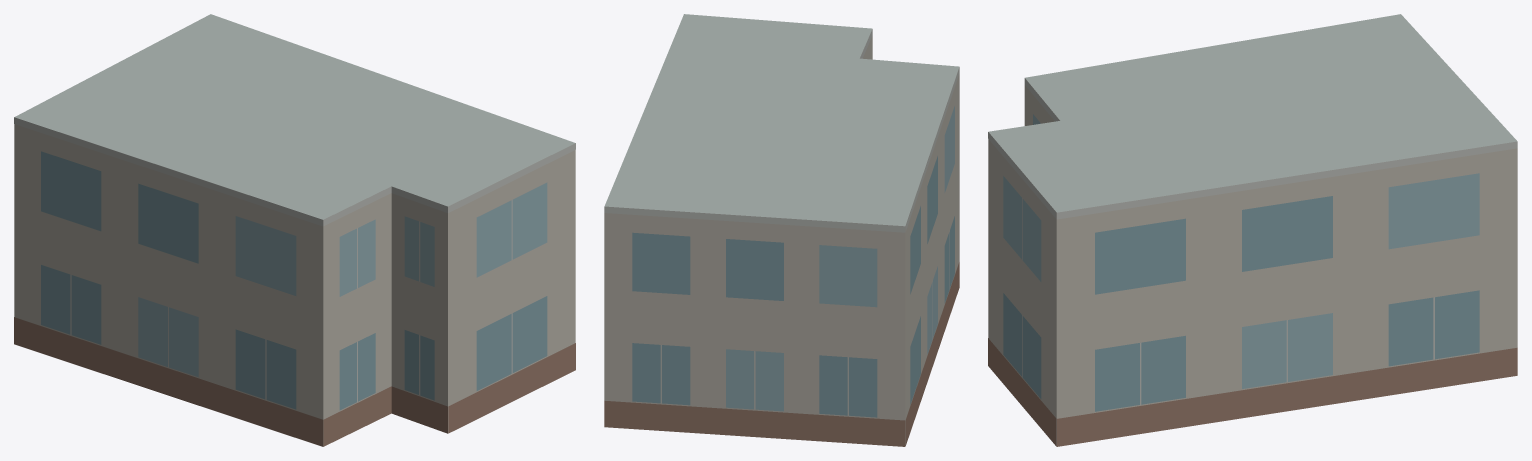
Rendered from survey-upis-32835867.glb.
3 views of the same model, side by side, from view 1: azimuth 30°, elevation 25°; view 2: azimuth 150°, elevation 25°; view 3: azimuth 270°, elevation 25° (orthographic). The views are drawn at different scales.
Visible parts, largest first — view 1: survey-upis-32835867.tmp; view 2: survey-upis-32835867.tmp; view 3: survey-upis-32835867.tmp.
Part boxes in pixels (x1,y1,x2,y2): survey-upis-32835867.tmp: (14, 14, 575, 446); survey-upis-32835867.tmp: (604, 14, 959, 446); survey-upis-32835867.tmp: (988, 14, 1517, 446).
Bounding box in the file's own units: 15.13 × 8.31 × 17.04.
